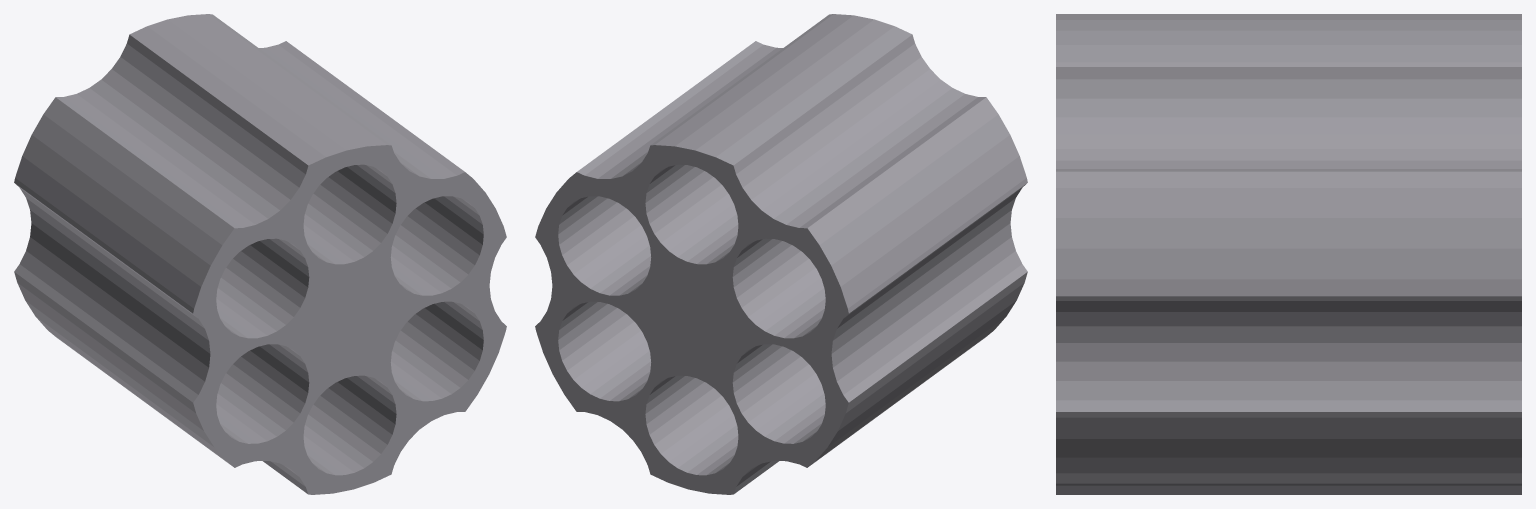
Rendered from RevolverCylinder.glb.
3 renders of one model, left to right at view 1: azimuth 30°, elevation 25°; view 2: azimuth 150°, elevation 25°; view 3: azimuth 270°, elevation 25°, orthographic. The views are drawn at different scales.
Parts seen in each view (by area): view 1: Revolver Cylinder; view 2: Revolver Cylinder; view 3: Revolver Cylinder.
Boxes of the visible parts, x1,y1,x2,y2 form: Revolver Cylinder: (14,14,506,494); Revolver Cylinder: (535,14,1027,494); Revolver Cylinder: (1056,14,1521,494).
Bounding box in the file's own units: 2.02 × 2.1 × 2.
1 material, 1 textured.
